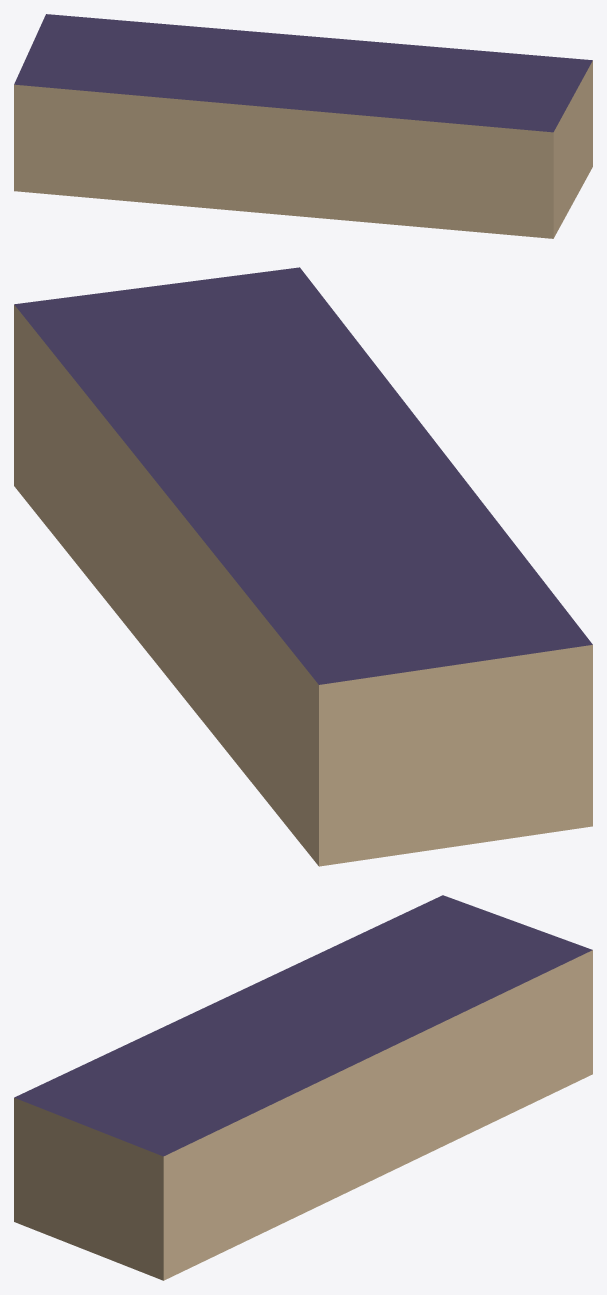
3 views of the same model, one above another, from view 1: azimuth 30°, elevation 25°; view 2: azimuth 150°, elevation 25°; view 3: azimuth 270°, elevation 25° (orthographic). The views are drawn at different scales.
Visible parts, largest first — view 1: campus/b-065-0; view 2: campus/b-065-0; view 3: campus/b-065-0.
Part boxes in pixels (x1,y1,x2,y2): campus/b-065-0: (14, 14, 592, 238); campus/b-065-0: (14, 267, 592, 866); campus/b-065-0: (14, 895, 592, 1280).
Size of the model in its own units: 13.54 by 3 by 12.67.
